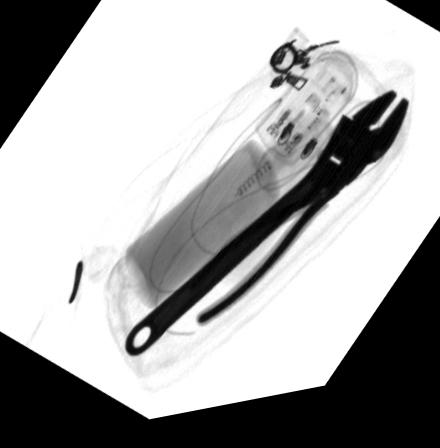Pliers: (185, 156, 381, 334)
Wrench: (124, 105, 409, 360)
